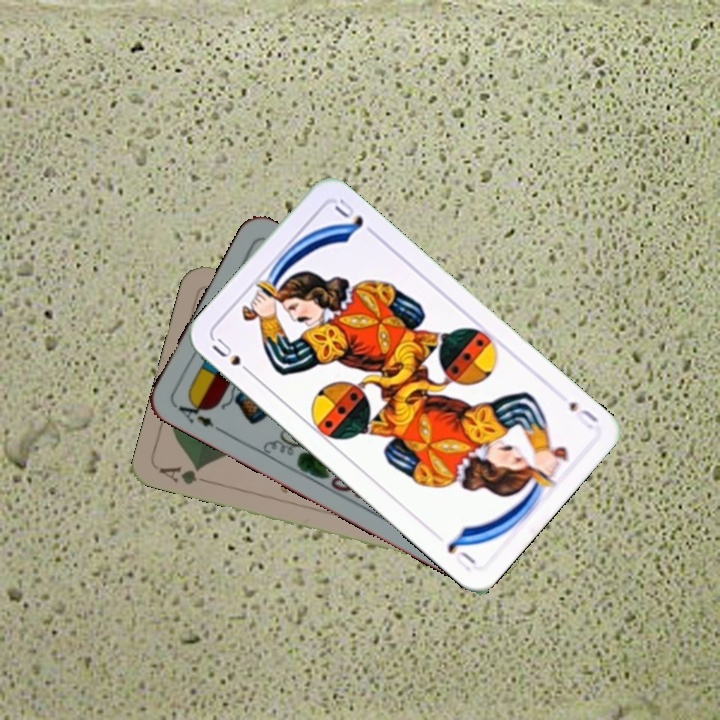EA: (171, 393, 225, 435)
GA: (155, 462, 205, 488)
SU: (208, 333, 257, 380), (565, 397, 601, 432)
